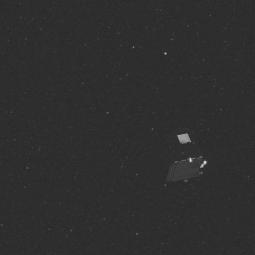proba_3_ocs: (151, 126, 213, 191)
